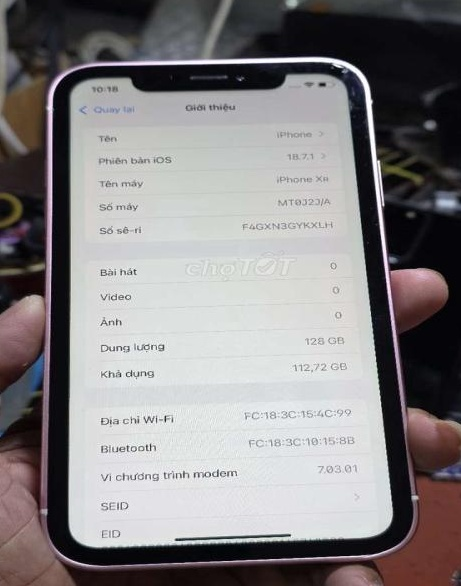physical_damage: (314, 55, 373, 118)
scratch: (342, 79, 369, 121)
